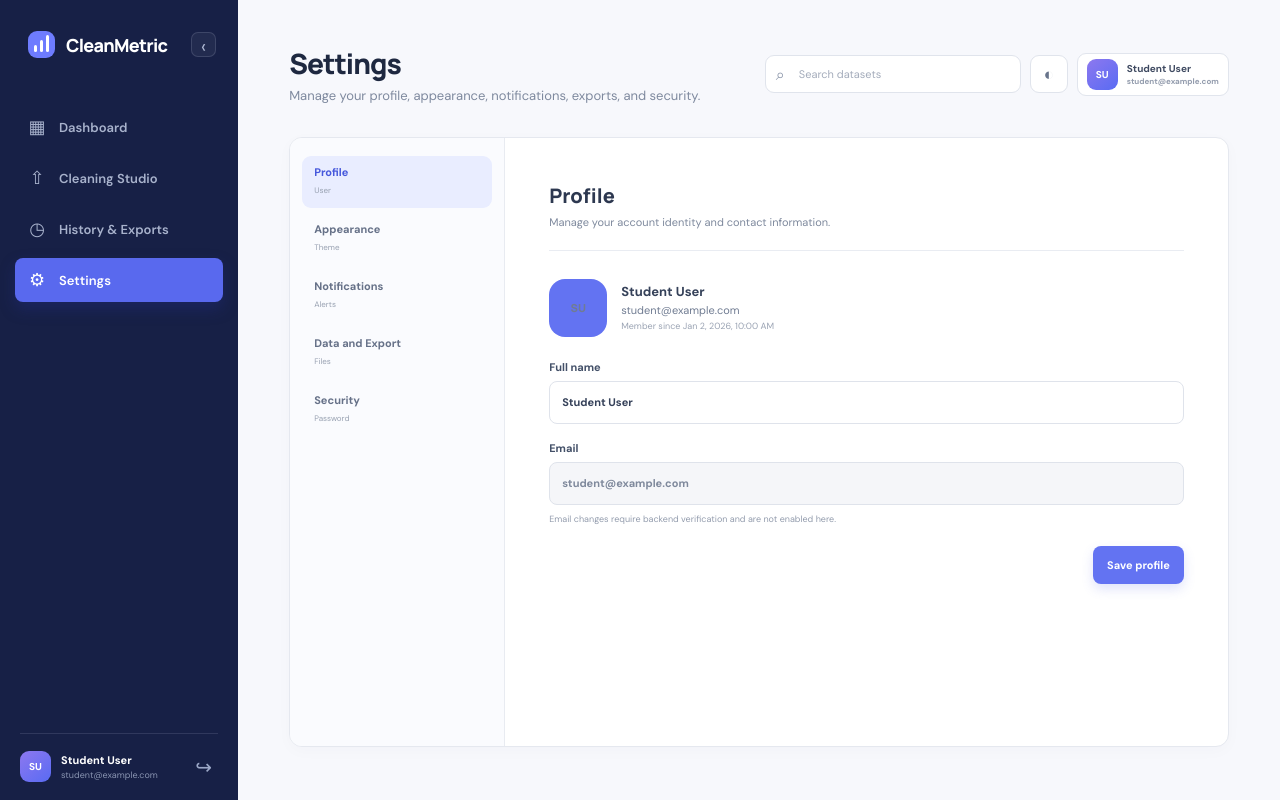
Test case: settings page › validates password confirmation before sending credentials
Click the button "Security Password".
click(397, 410)  # box [302, 384, 492, 436]
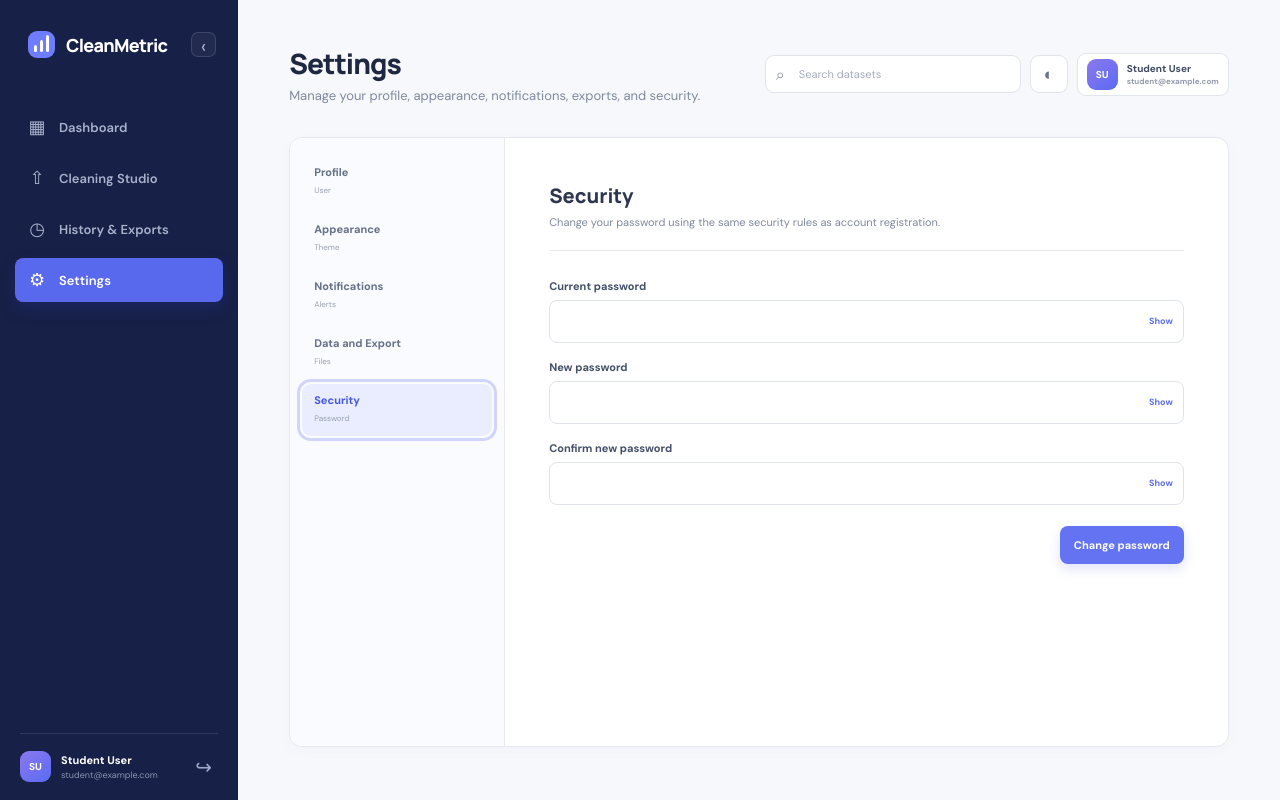
Type "oldpassword" into the password field labelled "Current password Show".
click(866, 321); type("oldpassword")  # box [549, 300, 1184, 342]
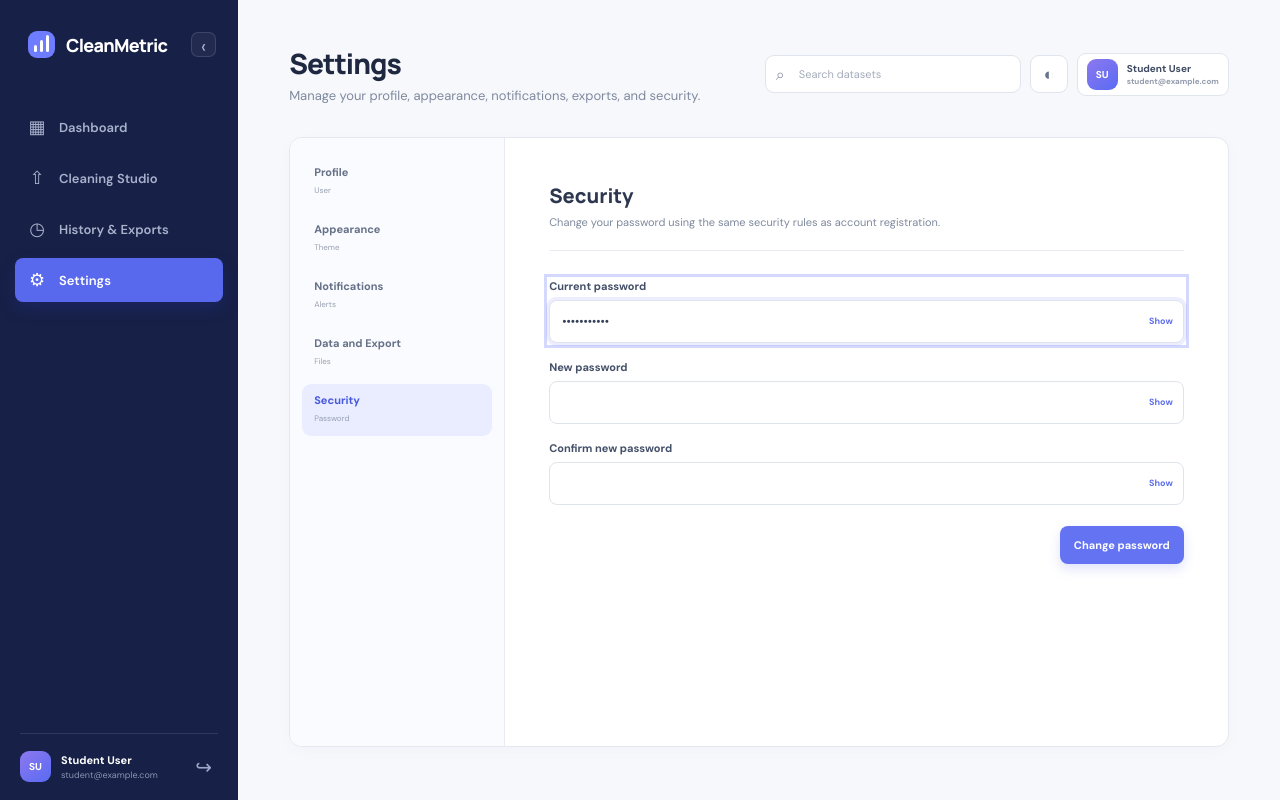
Type "newpassword" into the password field labelled "New password Show".
click(866, 402); type("newpassword")  # box [549, 380, 1184, 424]
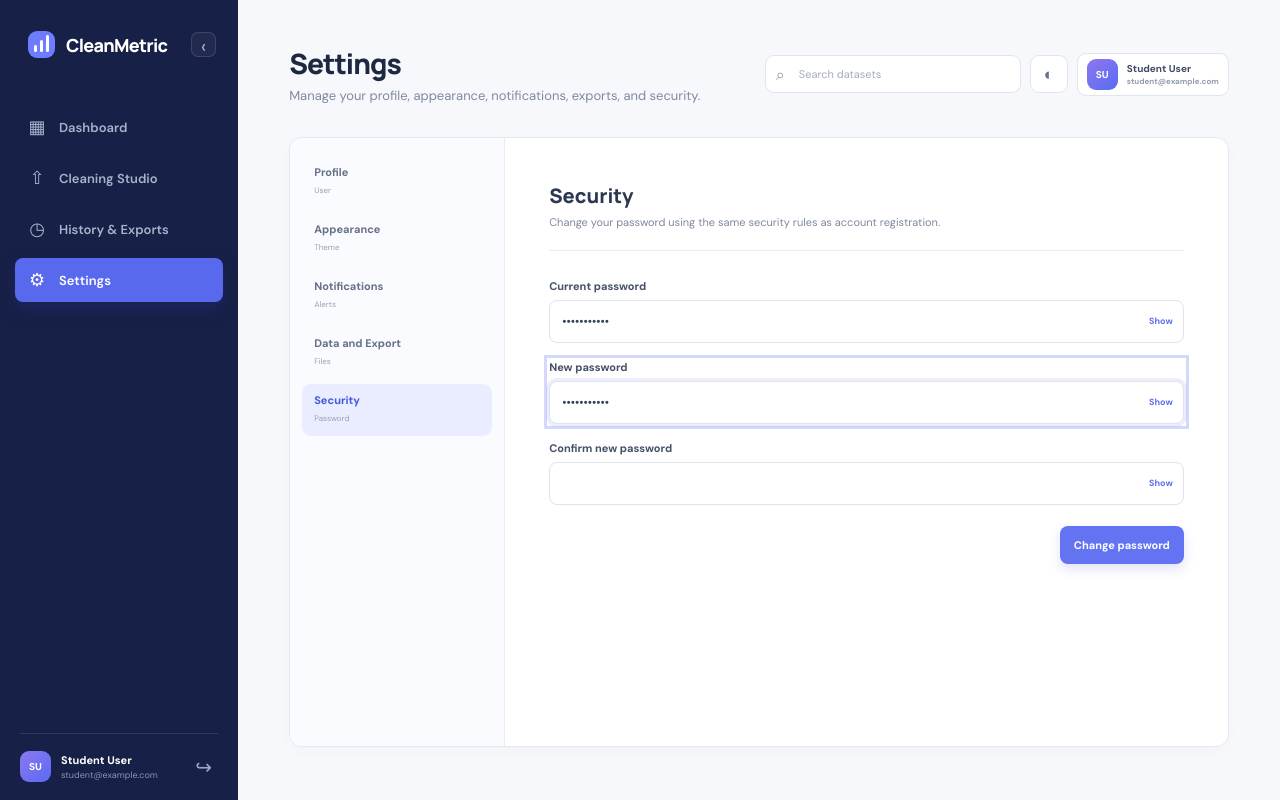
Type "different" into the password field labelled "Confirm new password Show".
click(866, 483); type("different")  # box [549, 462, 1184, 504]
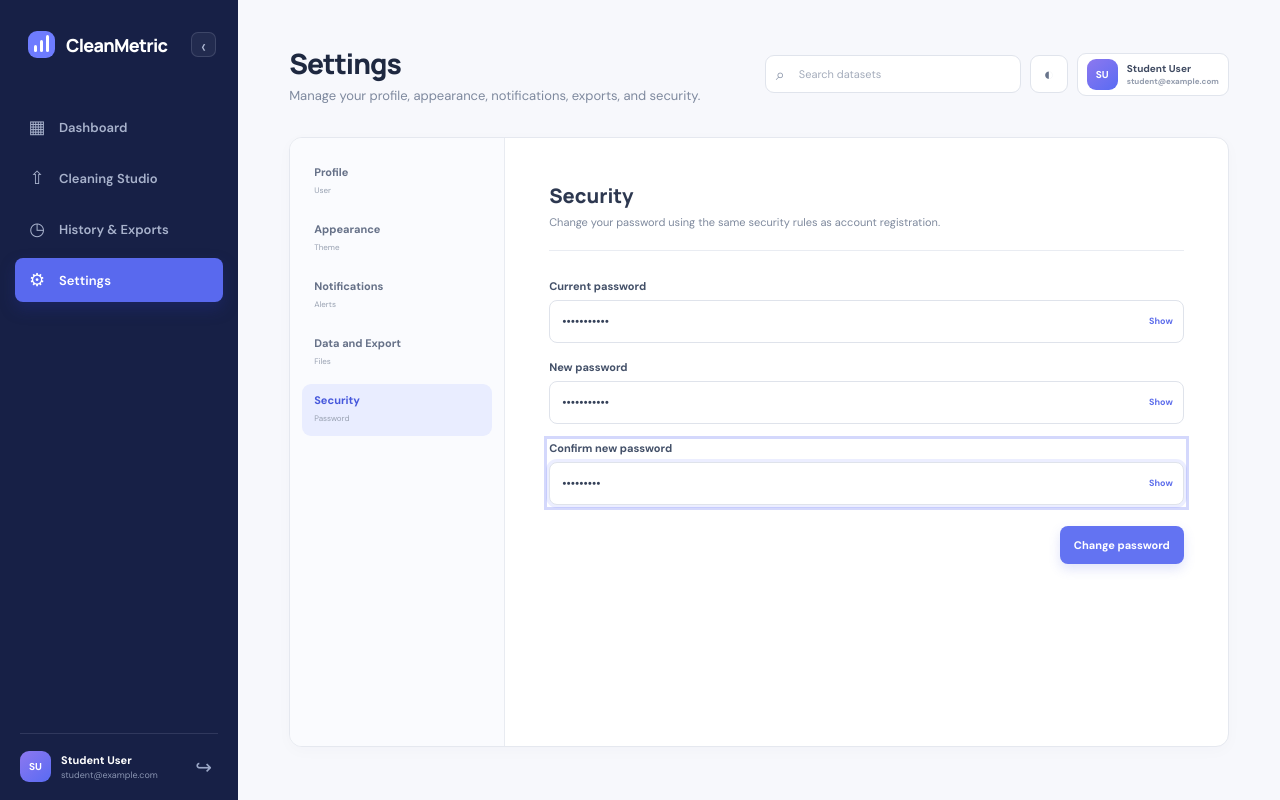
Click the button "Change password".
click(1122, 544)  # box [1060, 526, 1184, 564]
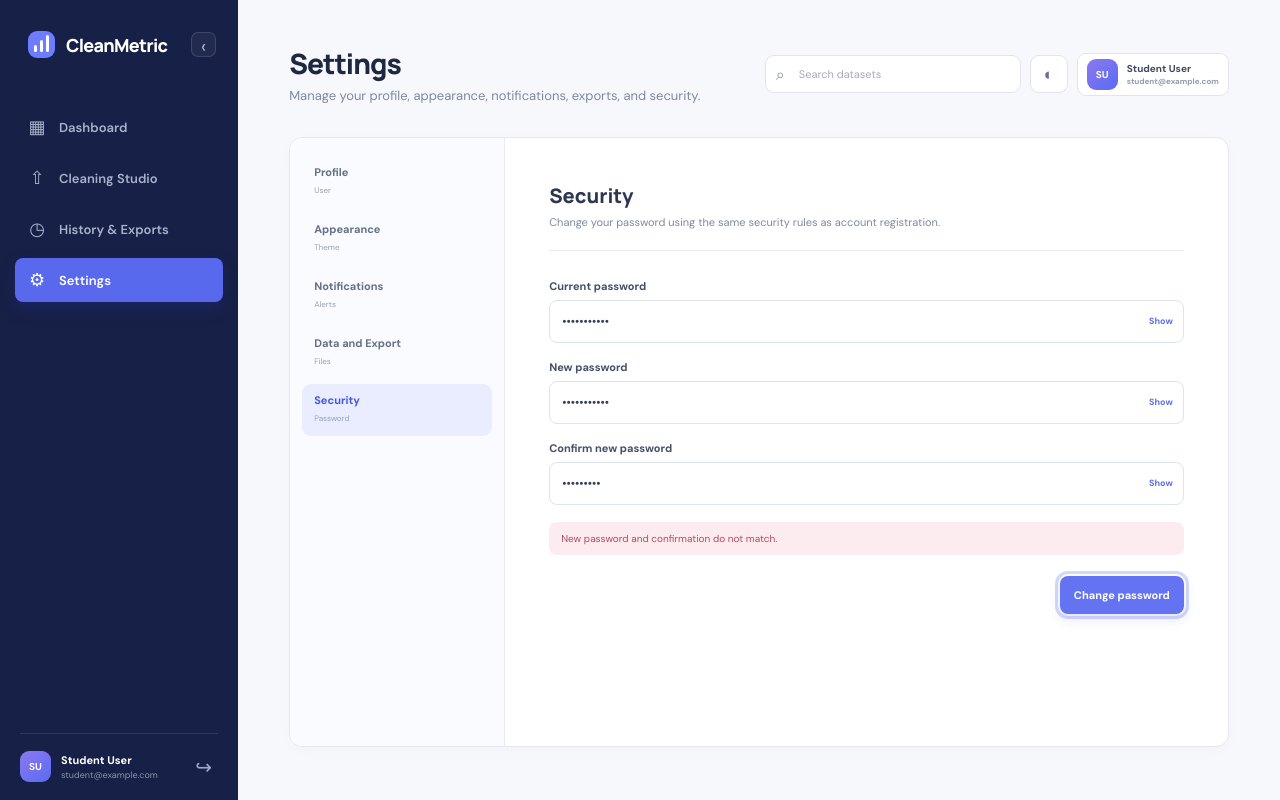
Expected: the message shows "do not match", [561, 532, 777, 544]
